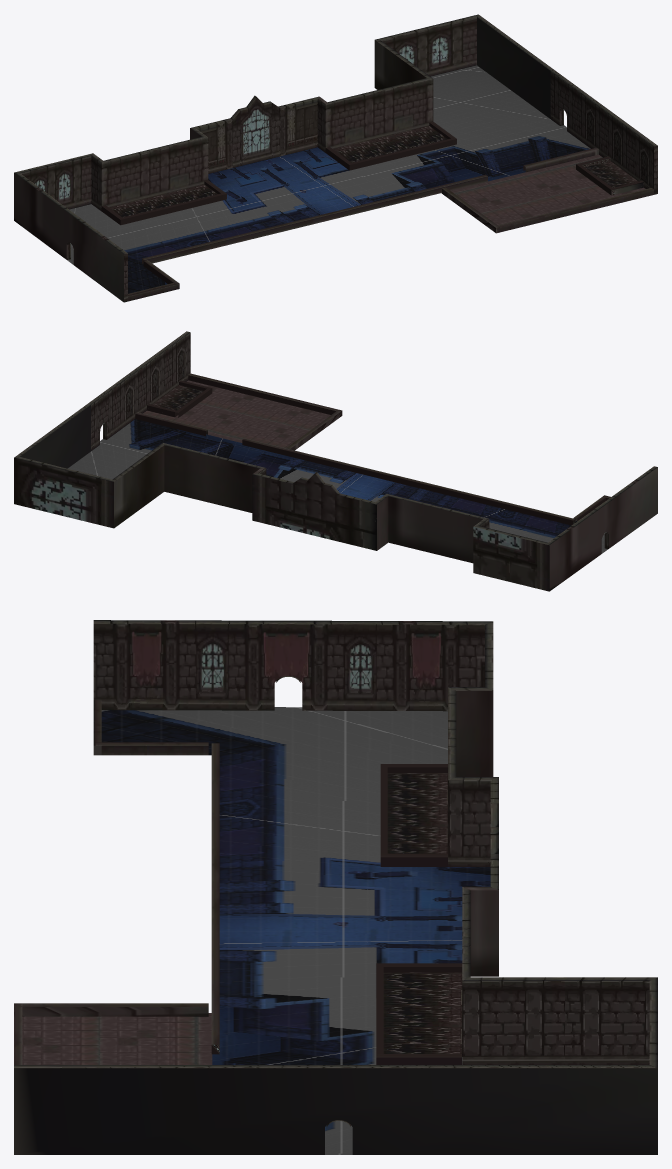
File: level 1 wall.fbx
3 renders of one model, top to bottom at view 1: azimuth 30°, elevation 25°; view 2: azimuth 150°, elevation 25°; view 3: azimuth 270°, elevation 25°, orthographic. The views are drawn at different scales.
Parts seen in each view (by area): view 1: Room, Floor; view 2: Room, Floor; view 3: Room, Floor.
Part boxes in pixels (box(x1,y1,x2,y2)): Room: box(14, 14, 657, 302); Floor: box(67, 65, 645, 293); Room: box(14, 331, 657, 591); Floor: box(68, 380, 607, 553); Room: box(14, 620, 657, 1154); Floor: box(14, 707, 490, 1154).
Bounding box in the file's own units: 2418 × 293 × 1468.
